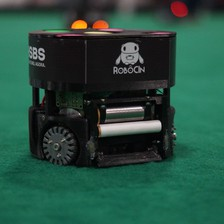robot: (24, 24, 182, 170)
